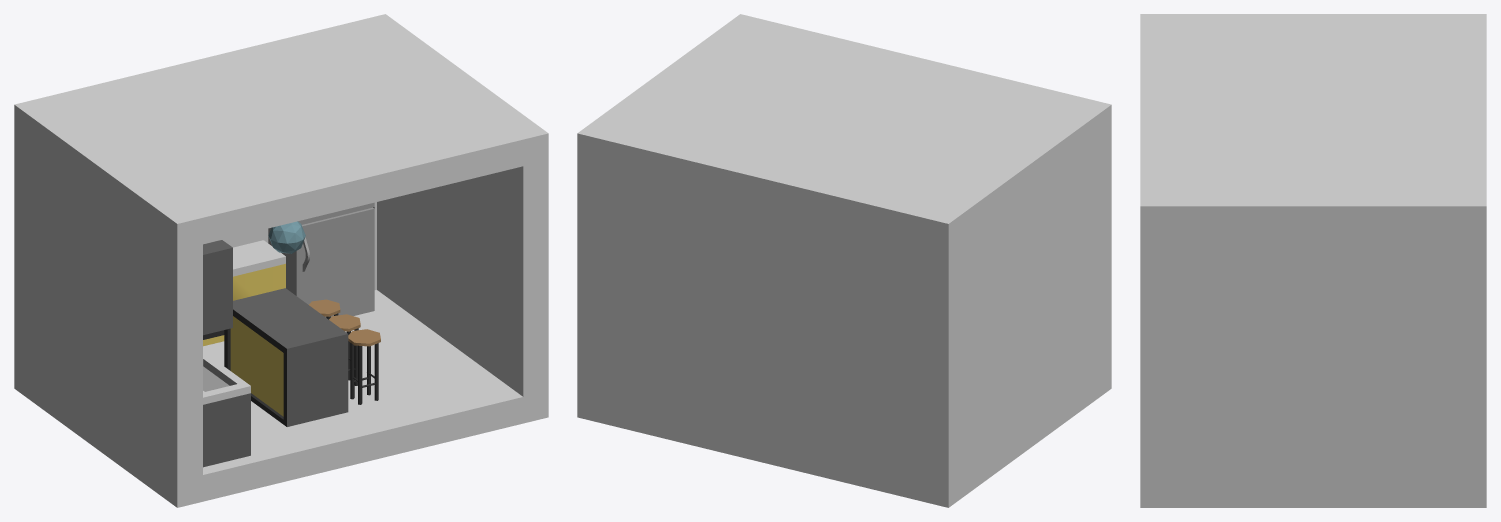
The model's file is 2fa8173a-6602-432f-bdea-4ea7db6ee069.glb.
The picture shows the model from 3 angles, left to right: view 1: azimuth 30°, elevation 25°; view 2: azimuth 150°, elevation 25°; view 3: azimuth 270°, elevation 25°; orthographic projection. The views are drawn at different scales.
Visible parts, largest first — view 1: Box004; view 2: Box004; view 3: Box004.
Boxes of the visible parts, left/top/right/bottom form: Box004: left=14, top=14, right=548, bottom=507; Box004: left=577, top=14, right=1111, bottom=507; Box004: left=1140, top=14, right=1486, bottom=507.
Bounding box in the file's own units: 62.93 × 45.99 × 47.88.
